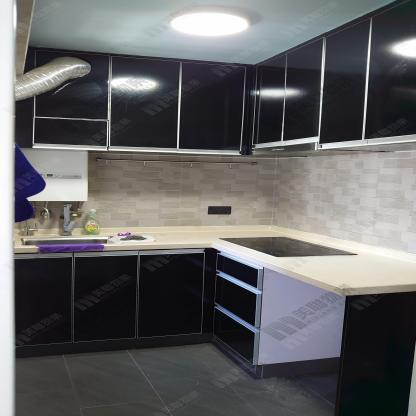Cupboard: (107, 0, 416, 155), (11, 251, 262, 368), (252, 0, 416, 148)
Exhaust Hood: (241, 142, 380, 159)
Faucet: (59, 202, 79, 237)
Sink: (22, 236, 116, 247)
Stove: (205, 233, 388, 261), (221, 236, 353, 257)
